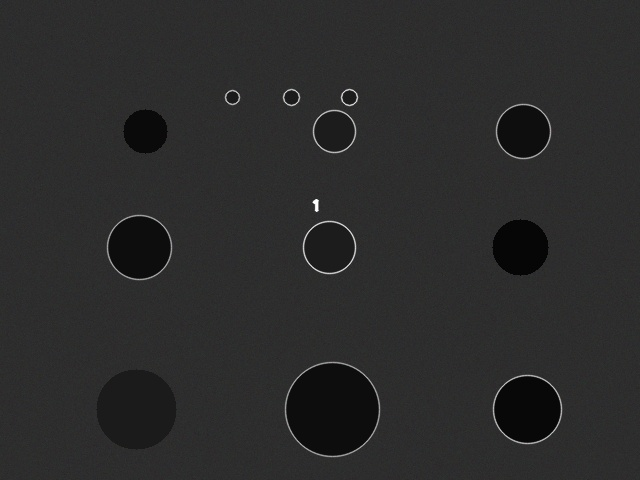hole: (285, 362, 379, 456), (96, 369, 176, 449), (493, 375, 561, 443), (107, 215, 171, 279), (492, 219, 548, 275), (496, 104, 550, 158), (303, 221, 355, 273), (123, 109, 167, 153), (313, 110, 355, 152), (283, 89, 299, 105), (341, 89, 357, 105), (225, 90, 239, 104)
